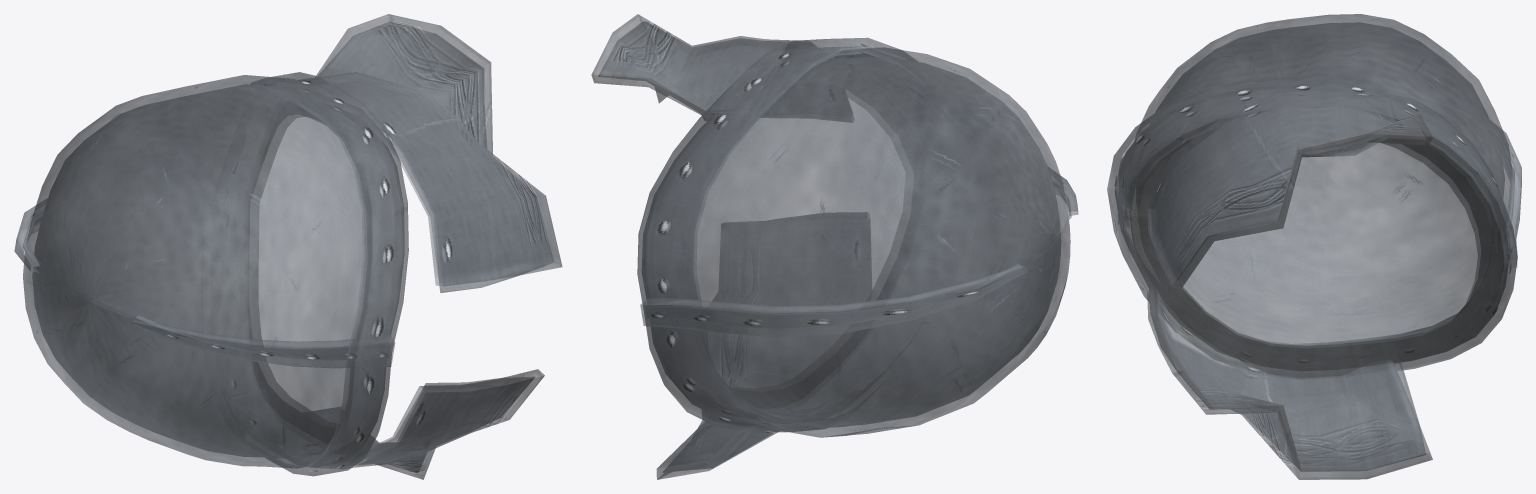
Rendered from casque_acier_nordique.glb.
The picture shows the model from 3 angles, left to right: view 1: azimuth 30°, elevation 25°; view 2: azimuth 150°, elevation 25°; view 3: azimuth 270°, elevation 25°; orthographic projection. The views are drawn at different scales.
Parts seen in each view (by area): view 1: casque_acier_nordique.001; view 2: casque_acier_nordique.001; view 3: casque_acier_nordique.001.
Boxes of the visible parts, x1,y1,x2,y2 form: casque_acier_nordique.001: (14,14,562,479); casque_acier_nordique.001: (591,14,1078,479); casque_acier_nordique.001: (1107,14,1521,479).
Bounding box in the file's own units: 0.2632 × 0.246 × 0.2456.
Materials: 1 (1 with a texture image).
